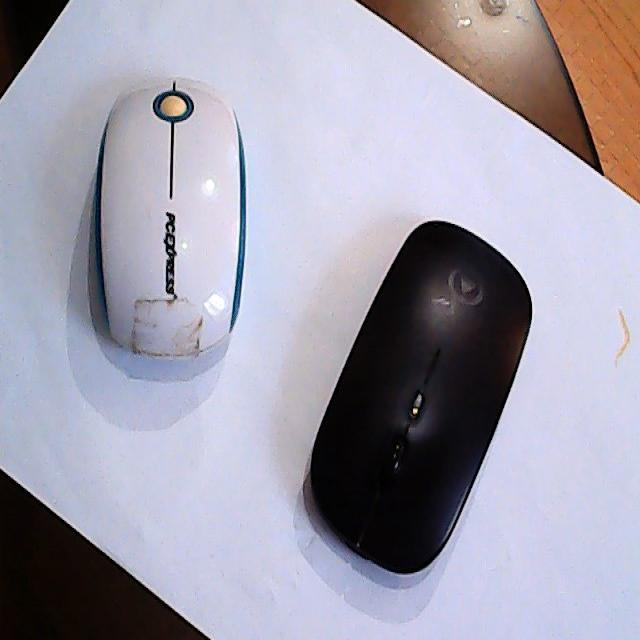mouse: (310, 212, 538, 578), (92, 76, 248, 361)
